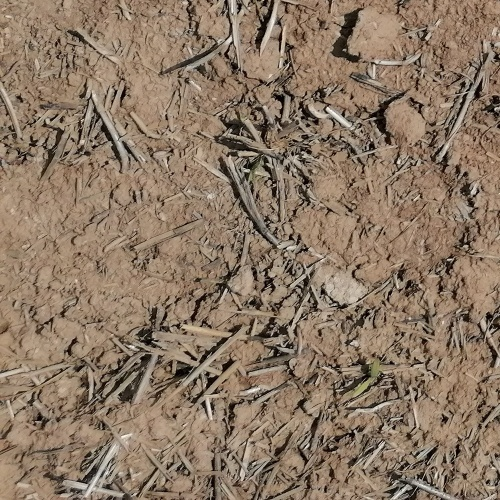beet: (353, 355, 380, 401)
